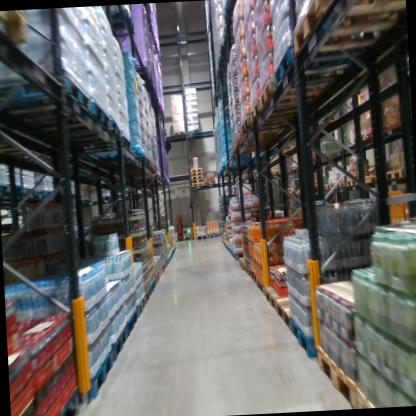pallet: (286, 0, 407, 55), (0, 72, 97, 137), (271, 36, 370, 90), (0, 99, 112, 146), (258, 76, 346, 110), (316, 333, 357, 405), (44, 118, 123, 153), (81, 348, 117, 403), (72, 132, 132, 163), (0, 12, 42, 51), (288, 314, 320, 357), (101, 320, 129, 368), (249, 100, 321, 118), (260, 284, 307, 311), (240, 113, 291, 133), (49, 390, 86, 416), (231, 140, 286, 157), (229, 135, 287, 150), (117, 308, 138, 344), (108, 10, 137, 36), (352, 381, 379, 406), (276, 297, 296, 328), (382, 167, 402, 188), (249, 268, 265, 293), (130, 297, 147, 320), (37, 184, 63, 198), (21, 180, 37, 195), (145, 276, 156, 297), (346, 177, 369, 187), (368, 169, 382, 185), (8, 183, 24, 197), (264, 168, 281, 181), (186, 124, 202, 136), (141, 287, 152, 304), (238, 253, 246, 272), (194, 233, 209, 243), (152, 269, 159, 289), (170, 129, 185, 138), (189, 165, 203, 174), (0, 182, 9, 196), (317, 181, 328, 192), (206, 231, 221, 239), (244, 262, 251, 279), (203, 178, 216, 187), (336, 178, 347, 188), (311, 152, 322, 162), (326, 182, 336, 192), (101, 194, 112, 203), (190, 175, 204, 181), (284, 187, 295, 194), (294, 188, 303, 196), (191, 172, 203, 178), (294, 162, 301, 172), (191, 183, 204, 188), (191, 179, 203, 184)
